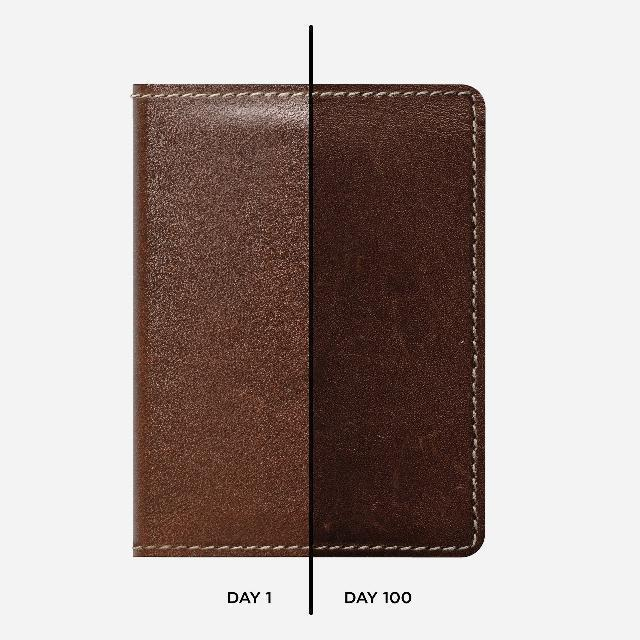wallet: (121, 70, 489, 560)
